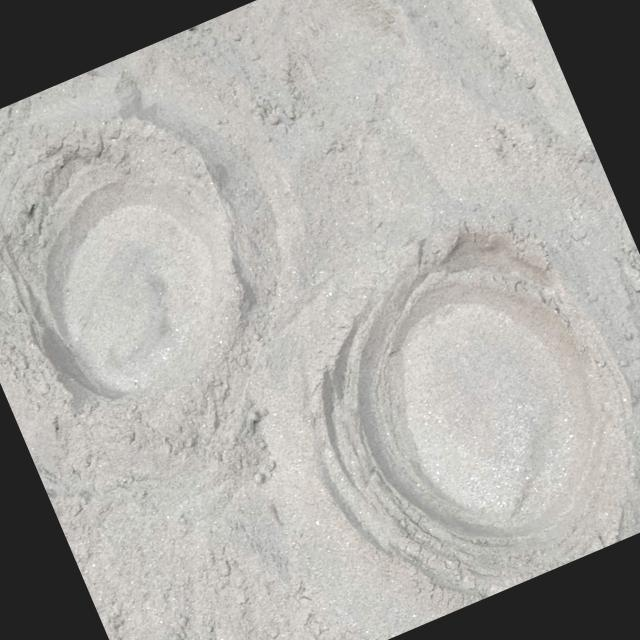C20: (336, 229, 622, 549), (2, 119, 236, 400)
